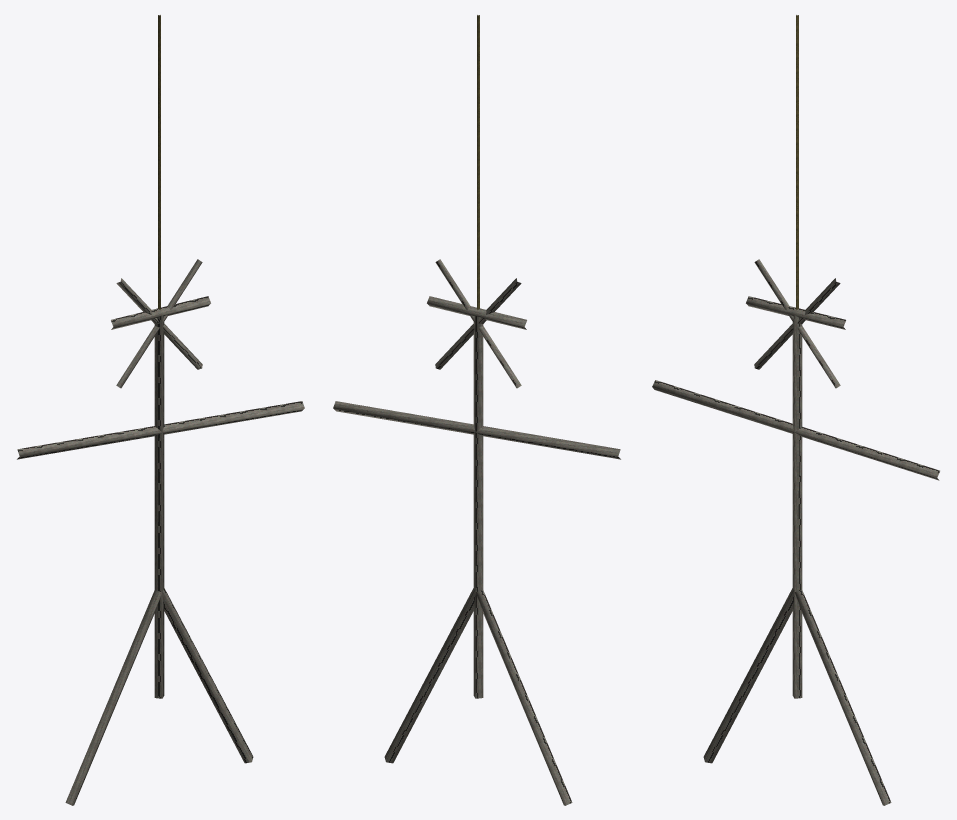
Rendered from stick_effigy.glb.
3 renders of one model, left to right at view 1: azimuth 30°, elevation 25°; view 2: azimuth 150°, elevation 25°; view 3: azimuth 330°, elevation 25°, orthographic.
Parts seen in each view (by area): view 1: stick_effigy; view 2: stick_effigy; view 3: stick_effigy.
Boxes of the visible parts, x1,y1,x2,y2 form: stick_effigy: (17, 15, 304, 805); stick_effigy: (333, 15, 620, 805); stick_effigy: (652, 15, 939, 805).
Bounding box in the file's own units: 0.7017 × 1.81 × 0.024.
Materials: 2 (2 with a texture image).
